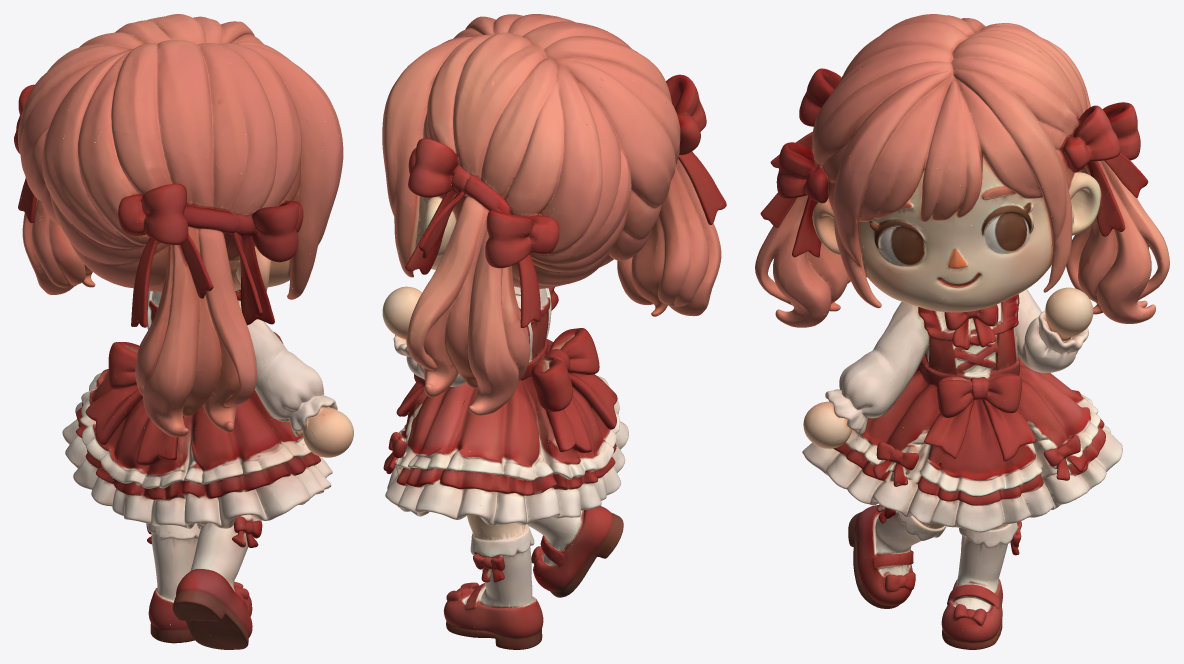
File: lolita.glb
The picture shows the model from 3 angles, left to right: view 1: azimuth 30°, elevation 25°; view 2: azimuth 150°, elevation 25°; view 3: azimuth 270°, elevation 25°; orthographic projection. The views are drawn at different scales.
Parts seen in each view (by area): view 1: tripo_node_92893f4a-8853-4e39-874e-130854578cbf; view 2: tripo_node_92893f4a-8853-4e39-874e-130854578cbf; view 3: tripo_node_92893f4a-8853-4e39-874e-130854578cbf.
Part boxes in pixels (x1,y1,x2,y2): tripo_node_92893f4a-8853-4e39-874e-130854578cbf: (14,14,353,649); tripo_node_92893f4a-8853-4e39-874e-130854578cbf: (382,14,726,649); tripo_node_92893f4a-8853-4e39-874e-130854578cbf: (755,14,1169,649).
Size of the model in its own units: 0.4429 by 1 by 0.645.
Materials: 1 (1 with a texture image).
